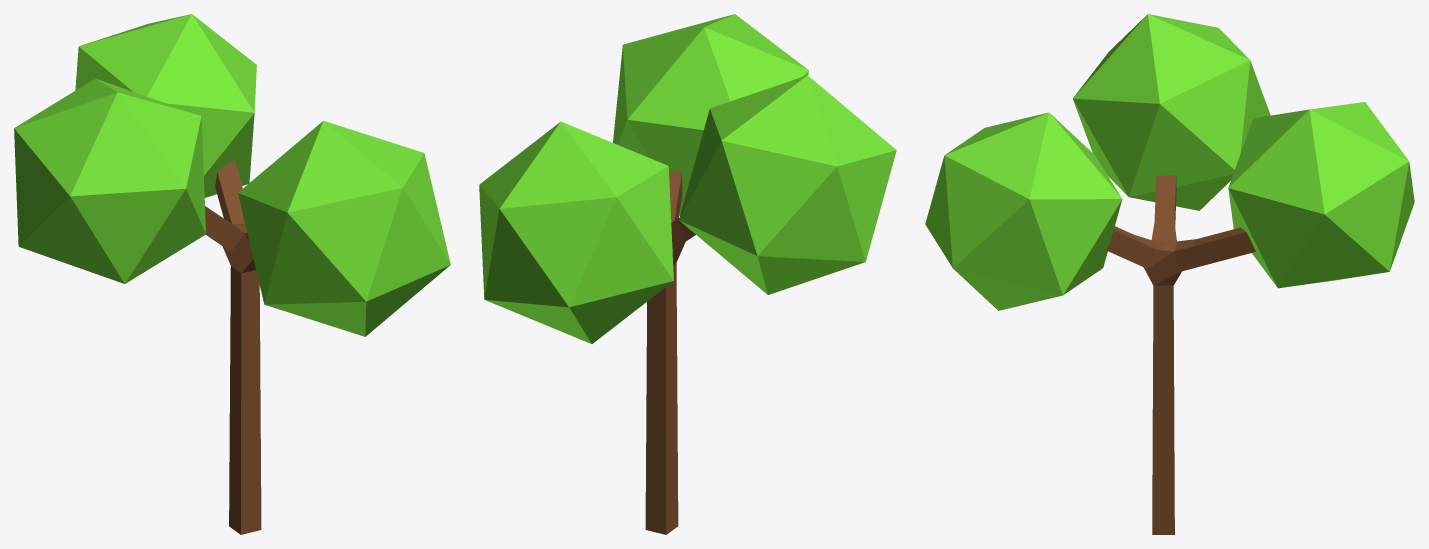
File: Oak3.fbx
The picture shows the model from 3 angles, left to right: view 1: azimuth 30°, elevation 25°; view 2: azimuth 150°, elevation 25°; view 3: azimuth 270°, elevation 25°; orthographic projection. The views are drawn at different scales.
Parts seen in each view (by area): view 1: Icosphere.002, Icosphere.003, Icosphere.004, Cube.002; view 2: Icosphere.003, Icosphere.004, Icosphere.002, Cube.002; view 3: Icosphere.002, Icosphere.004, Icosphere.003, Cube.002.
Part boxes in pixels (left/top/right/bottom): Icosphere.002: left=238, top=121, right=450, bottom=336; Icosphere.003: left=14, top=78, right=205, bottom=283; Icosphere.004: left=75, top=14, right=256, bottom=197; Cube.002: left=205, top=160, right=261, bottom=534; Icosphere.003: left=679, top=75, right=896, bottom=294; Icosphere.004: left=479, top=121, right=673, bottom=343; Icosphere.002: left=613, top=14, right=808, bottom=215; Cube.002: left=645, top=170, right=695, bottom=534; Icosphere.002: left=925, top=112, right=1122, bottom=310; Icosphere.004: left=1228, top=102, right=1414, bottom=288; Icosphere.003: left=1072, top=14, right=1270, bottom=210; Cube.002: left=1106, top=175, right=1255, bottom=534.
Size of the model in its own units: 40.88 by 57.43 by 56.25.
